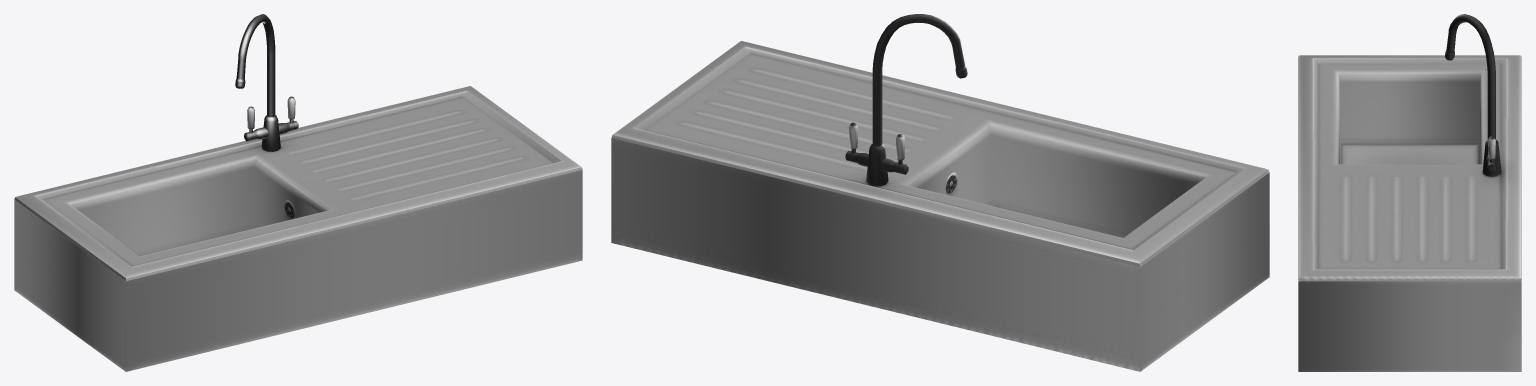
The model's file is Sink.fbx.
The picture shows the model from 3 angles, left to right: view 1: azimuth 30°, elevation 25°; view 2: azimuth 150°, elevation 25°; view 3: azimuth 270°, elevation 25°; orthographic projection. The views are drawn at different scales.
Visible parts, largest first — view 1: Sink; view 2: Sink; view 3: Sink.
Part boxes in pixels (left/top/right/bottom): Sink: left=14, top=14, right=582, bottom=371; Sink: left=611, top=14, right=1269, bottom=371; Sink: left=1298, top=14, right=1521, bottom=371.
Bounding box in the file's own units: 151 × 63.81 × 75.05.
